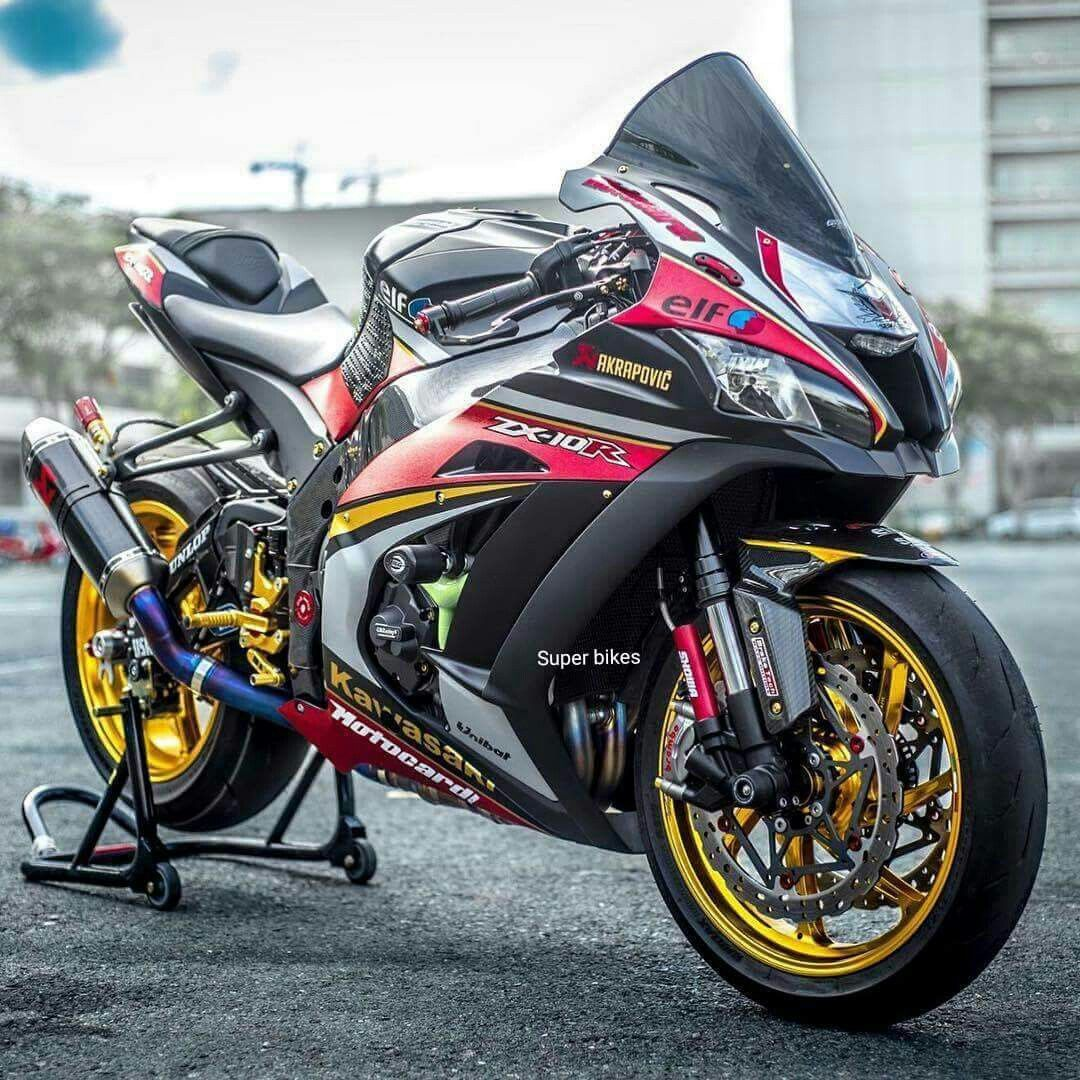motorcycle: (24, 163, 1039, 1023)
